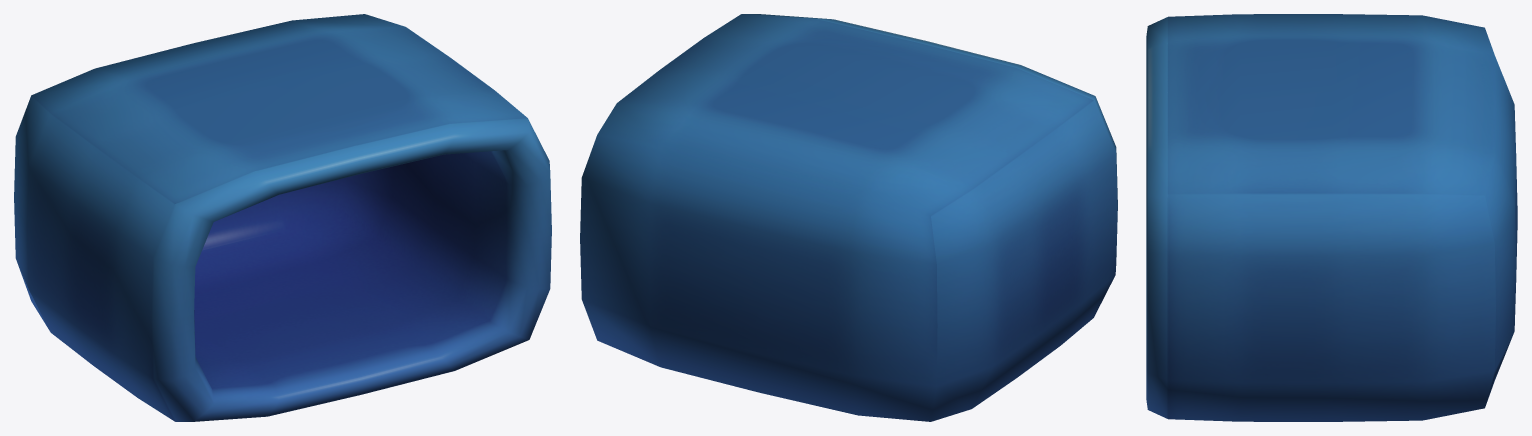
The model's file is ShelfStorage_Box.fbx.
The picture shows the model from 3 angles, left to right: view 1: azimuth 30°, elevation 25°; view 2: azimuth 150°, elevation 25°; view 3: azimuth 270°, elevation 25°; orthographic projection. The views are drawn at different scales.
Parts seen in each view (by area): view 1: Cube.064; view 2: Cube.064; view 3: Cube.064.
Part boxes in pixels (left/top/right/bottom): Cube.064: left=14, top=14, right=551, bottom=421; Cube.064: left=580, top=14, right=1117, bottom=421; Cube.064: left=1146, top=14, right=1517, bottom=421.
Size of the model in its own units: 91.96 by 54.24 by 70.71.
1 material, 1 textured.
